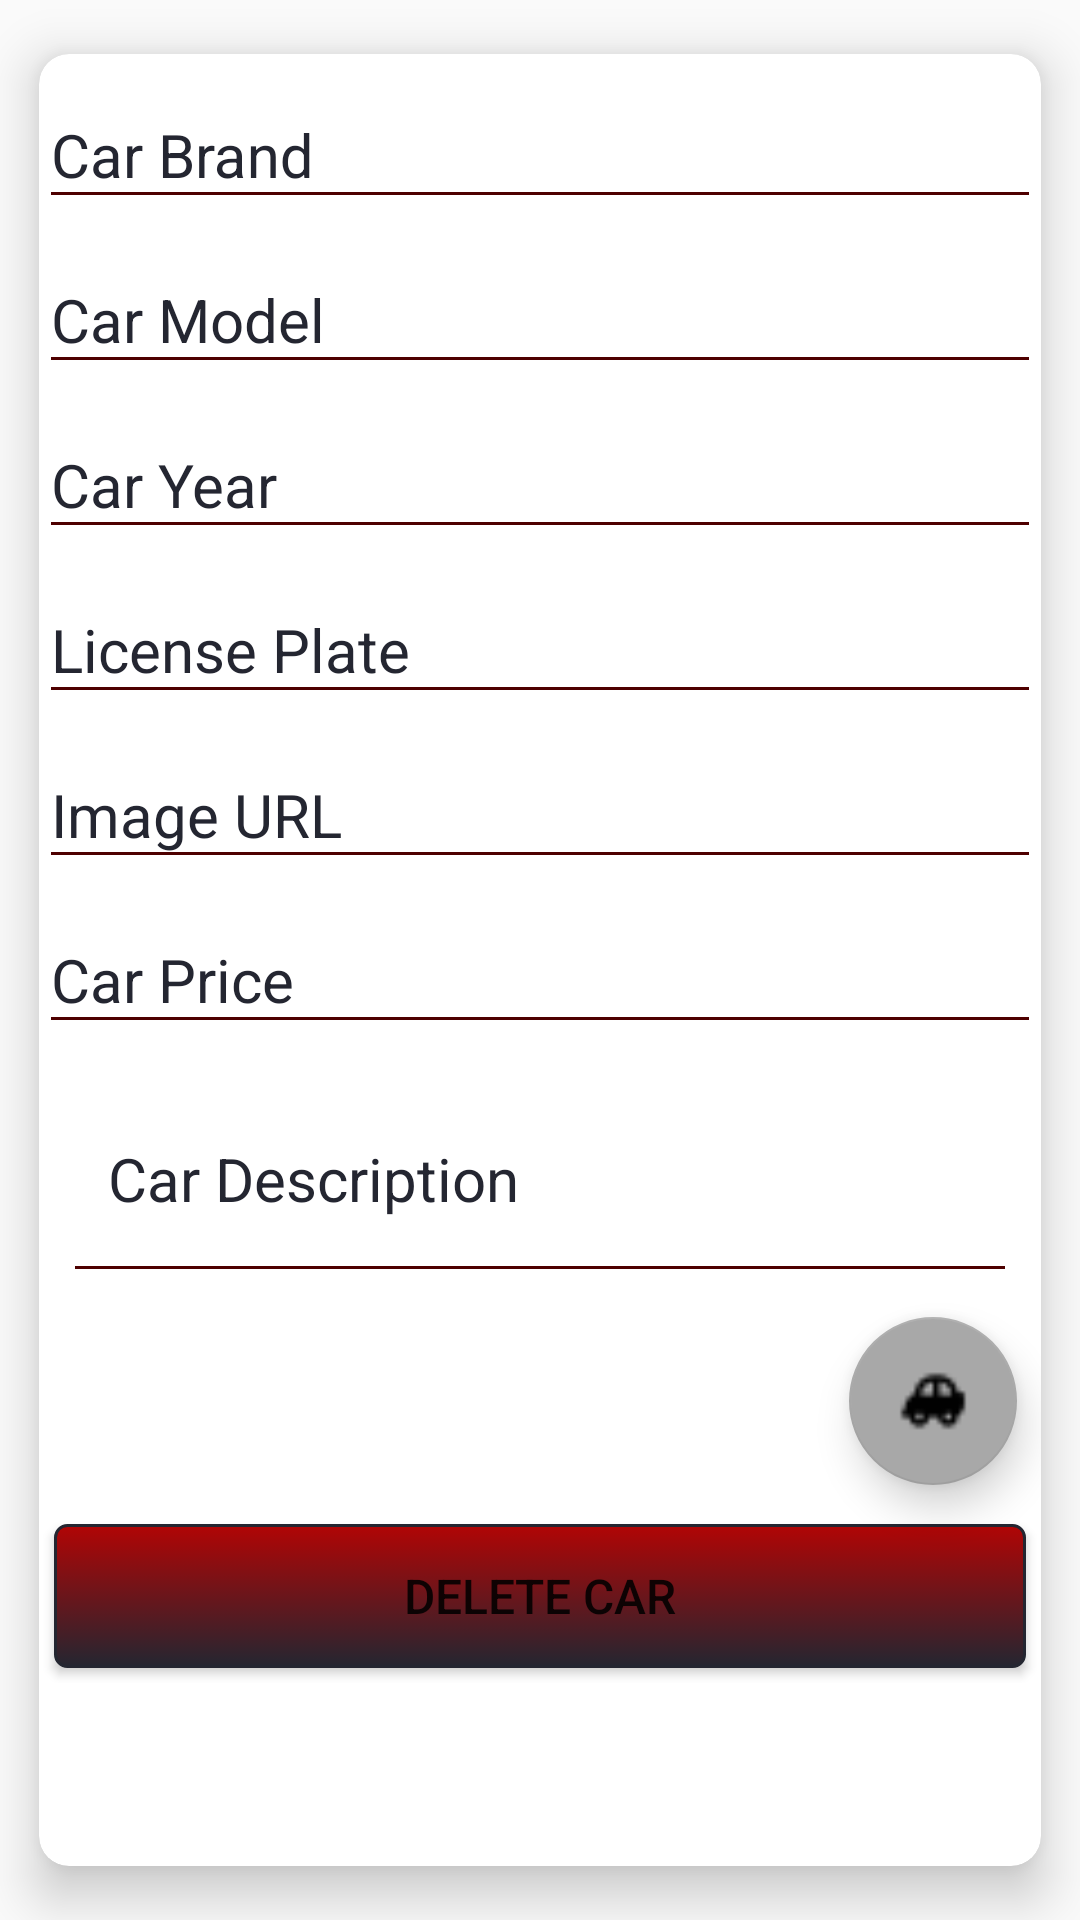

Named icons in this screenshot (1080×1920) and their bounding boxes, (x1, y1, x2, y2):
floatbutton: (849, 1317, 1017, 1485)
